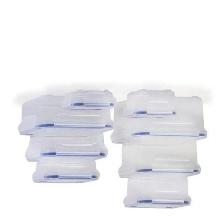plastic_box: (105, 90, 211, 149), (14, 90, 116, 141), (114, 132, 204, 183), (20, 123, 110, 166), (118, 168, 195, 212), (28, 152, 103, 189), (118, 86, 180, 123), (57, 86, 119, 114)
